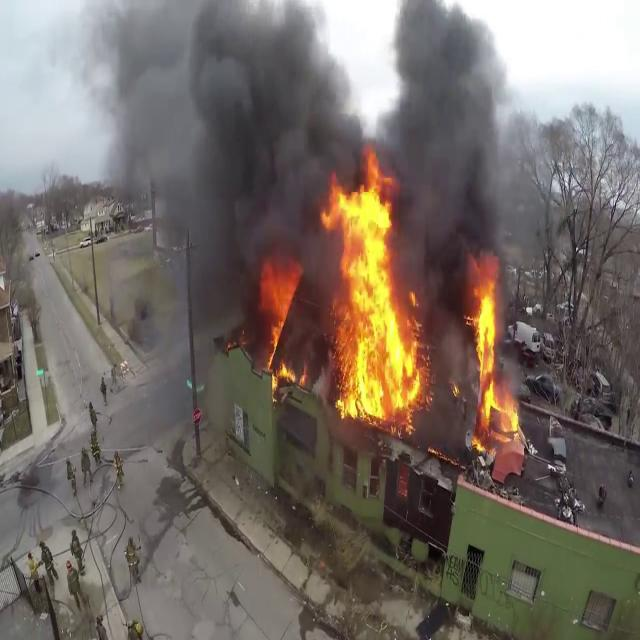Fire: (318, 158, 428, 432), (464, 260, 520, 442), (464, 262, 506, 432), (255, 258, 303, 391)
Smoke: (96, 0, 547, 281), (97, 0, 363, 300), (366, 0, 546, 282)
